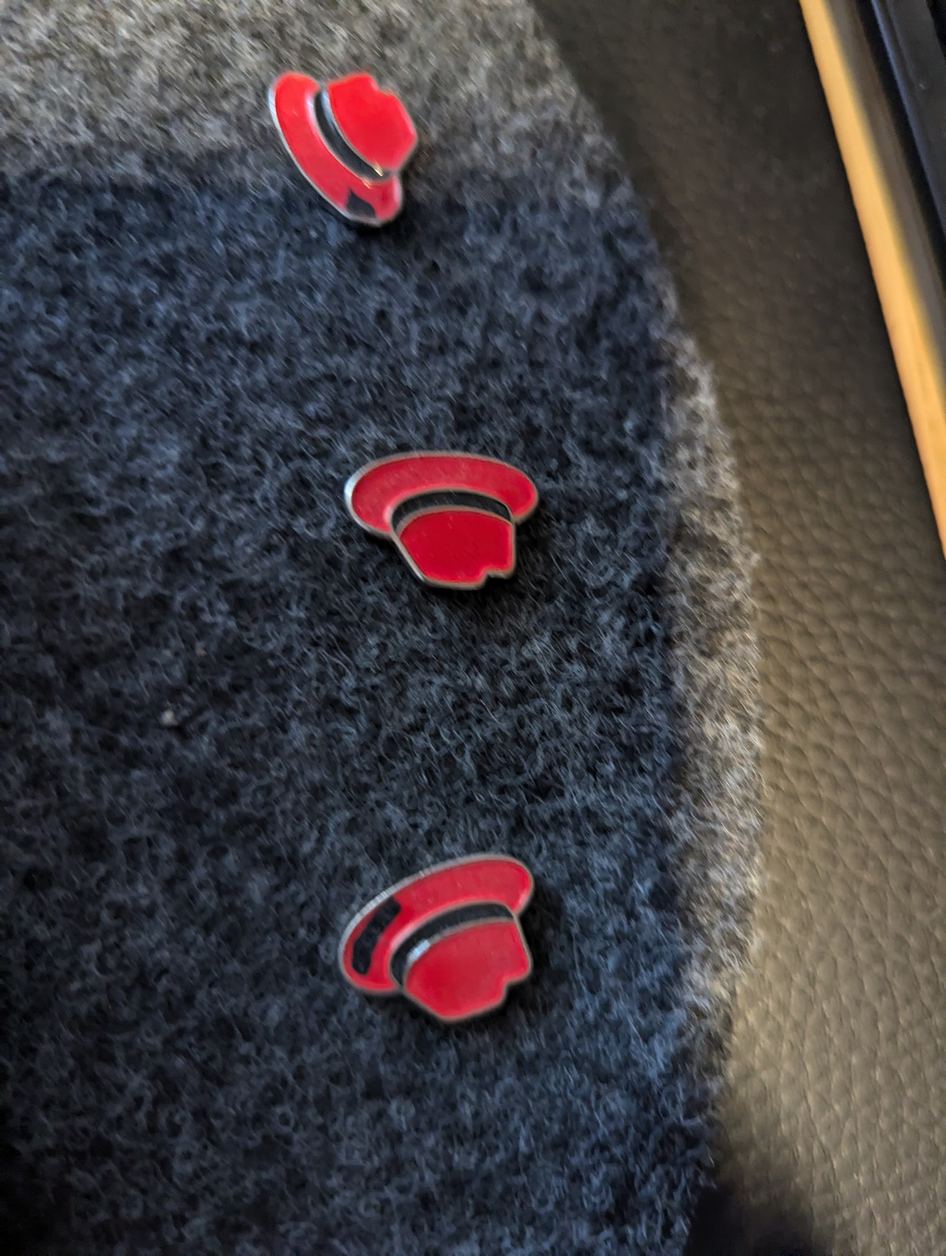Red-Hat: (308, 828, 578, 1063), (317, 418, 550, 614), (235, 41, 449, 242)
Scratch: (330, 876, 409, 1002), (318, 170, 413, 245)
